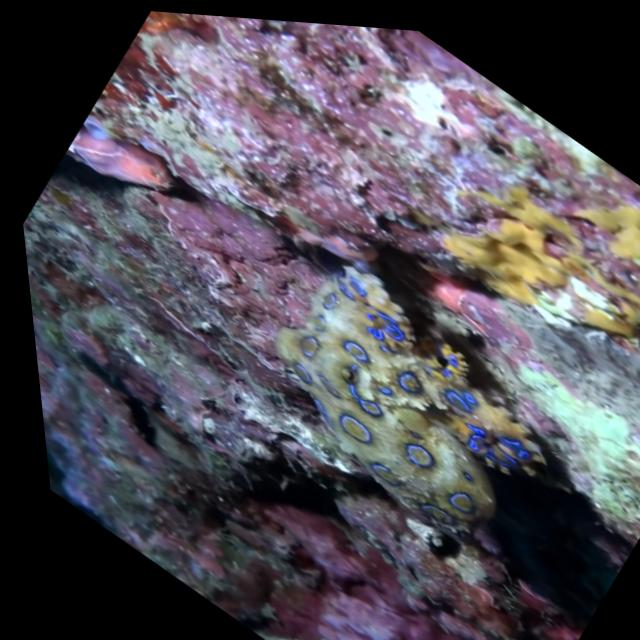blue_ringed_octopus: (211, 229, 584, 571)
